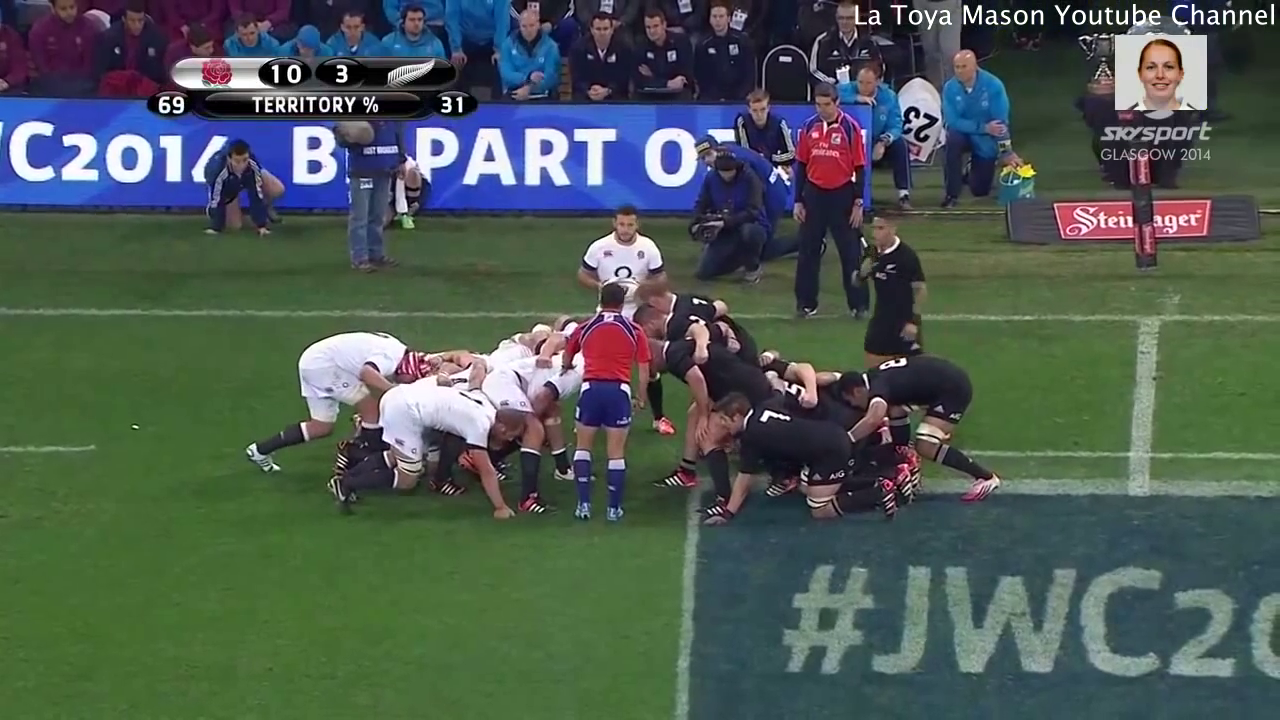ball: (597, 272, 653, 304)
player: (821, 340, 1016, 515), (240, 314, 433, 486), (698, 387, 926, 528), (316, 377, 530, 520), (547, 276, 655, 525), (780, 80, 870, 317), (845, 204, 935, 372), (565, 195, 679, 323), (635, 324, 777, 422)
